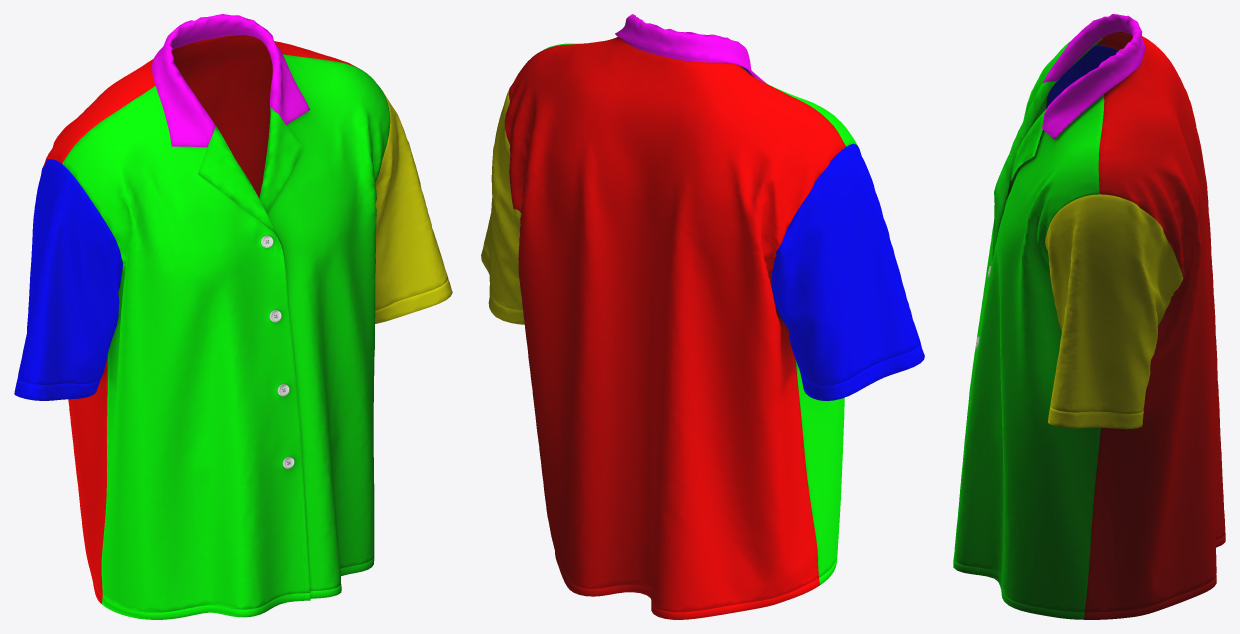
The model's file is ButtonShirt.glb.
3 views of the same model, side by side, from view 1: azimuth 30°, elevation 25°; view 2: azimuth 150°, elevation 25°; view 3: azimuth 270°, elevation 25° (orthographic). The views are drawn at different scales.
Parts seen in each view (by area): view 1: 01ButtonShirt; view 2: 01ButtonShirt; view 3: 01ButtonShirt.
Boxes of the visible parts, x1,y1,x2,y2 form: 01ButtonShirt: [14, 14, 452, 619]; 01ButtonShirt: [481, 14, 924, 619]; 01ButtonShirt: [953, 14, 1225, 619].
Size of the model in its own units: 0.6117 by 0.7304 by 0.3363.
Materials: 2 (2 with a texture image).
